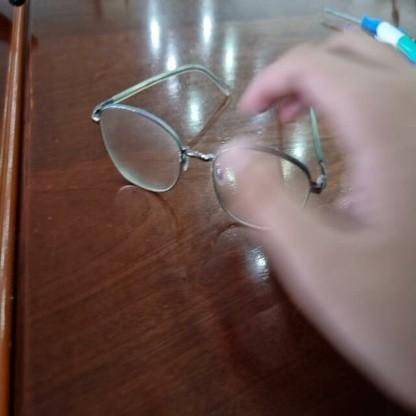not trash: (88, 60, 326, 234)
